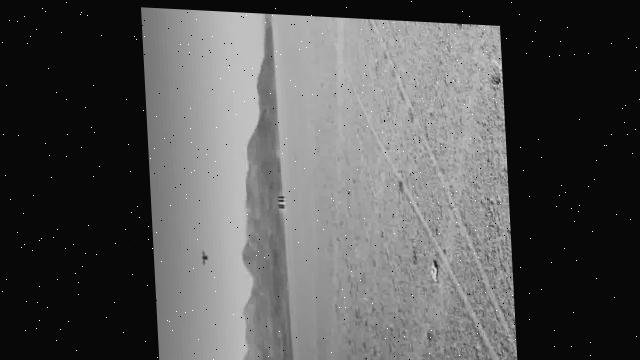drone: (195, 245, 206, 266)
